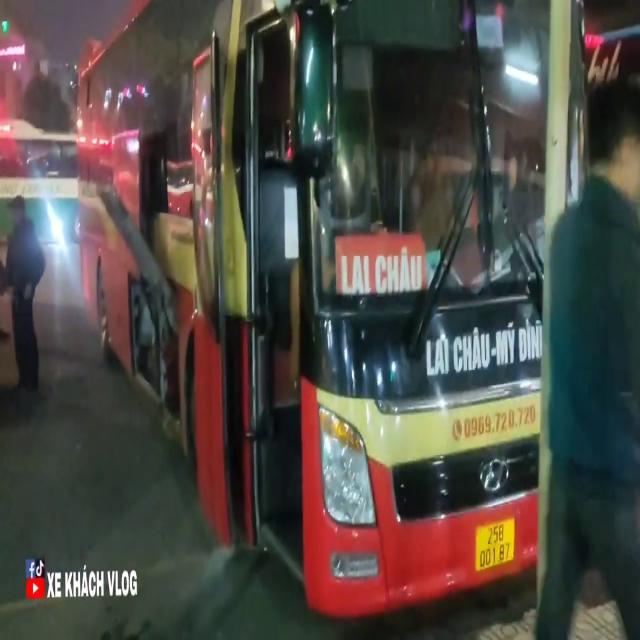bien_vang: (475, 519, 519, 568)
